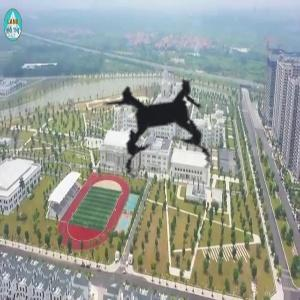drone: (66, 27, 262, 223)
